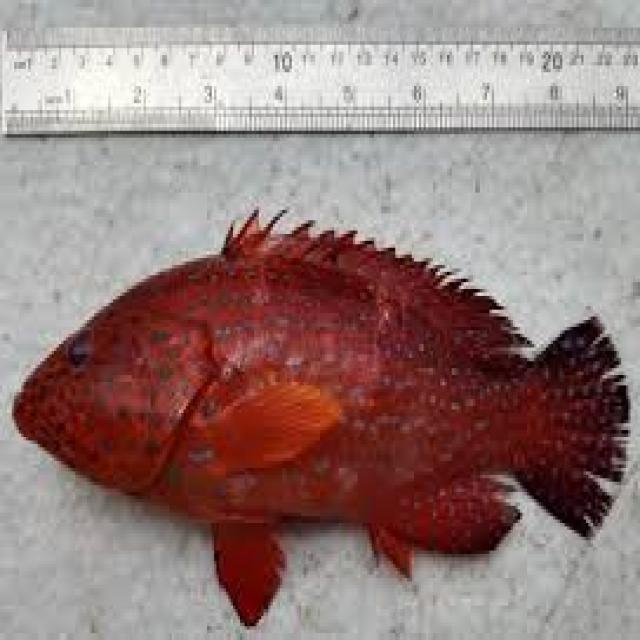Leopard coral grouper: (14, 212, 634, 632)
